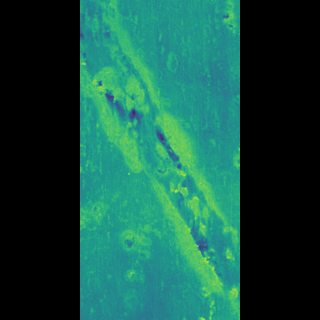Loch: (119, 1, 202, 306)
